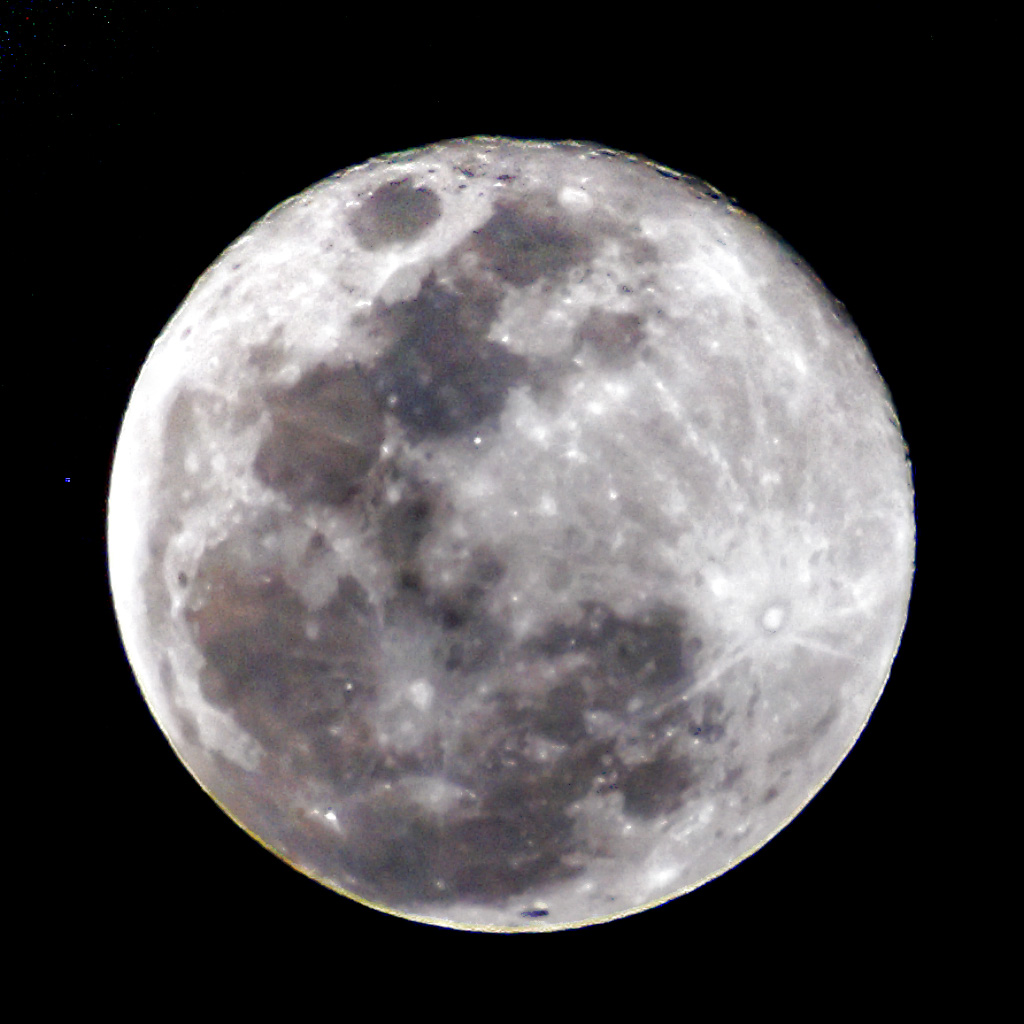crater: (337, 171, 452, 262), (675, 226, 762, 324), (746, 585, 803, 646), (497, 891, 569, 923), (398, 666, 443, 717), (421, 863, 457, 899), (166, 557, 196, 598), (593, 480, 631, 511), (438, 157, 482, 182), (370, 434, 400, 464), (490, 170, 529, 190), (463, 420, 485, 454), (224, 254, 252, 279), (175, 319, 198, 346), (496, 322, 518, 348)
